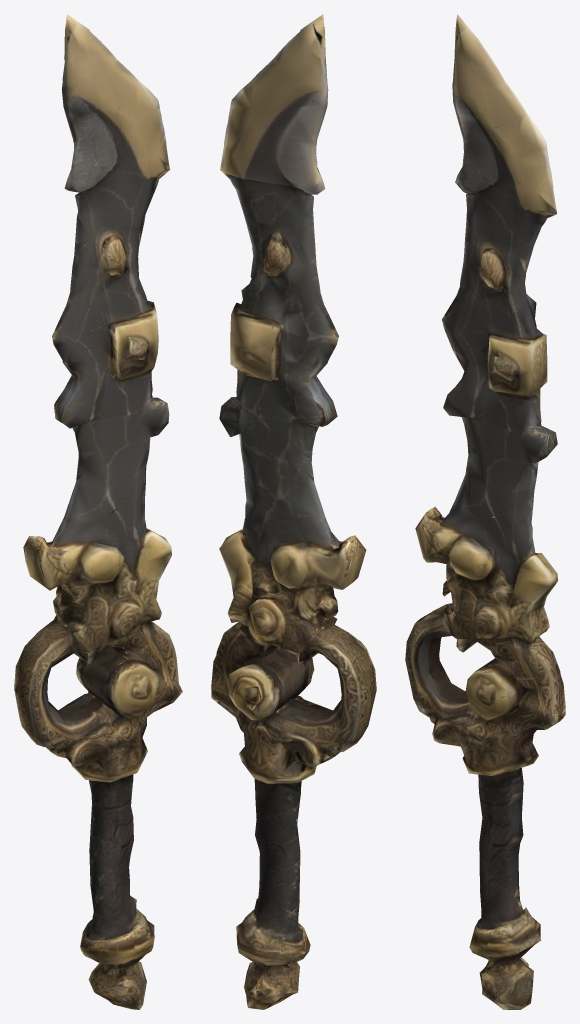
The model's file is 429_w_sword_gold.glb.
3 views of the same model, side by side, from view 1: azimuth 30°, elevation 25°; view 2: azimuth 150°, elevation 25°; view 3: azimuth 330°, elevation 25° (orthographic). The views are drawn at different scales.
Visible parts, largest first — view 1: Model; view 2: Model; view 3: Model.
Boxes of the visible parts, box(x1,y1,x2,y2) form: Model: box(14, 14, 182, 1009); Model: box(211, 14, 376, 1009); Model: box(405, 14, 565, 1009).
Size of the model in its own units: 0.162 by 1 by 0.0835.
Materials: 1 (1 with a texture image).
